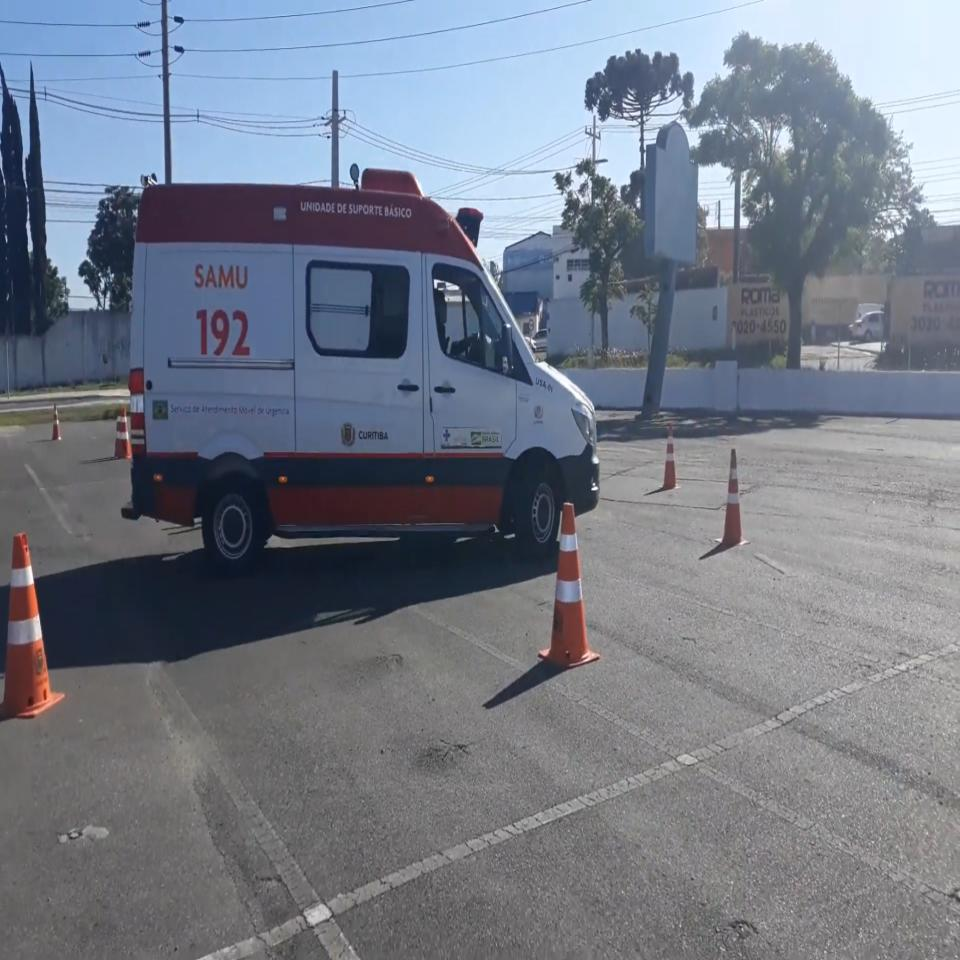bombeiro: (133, 153, 604, 563)
